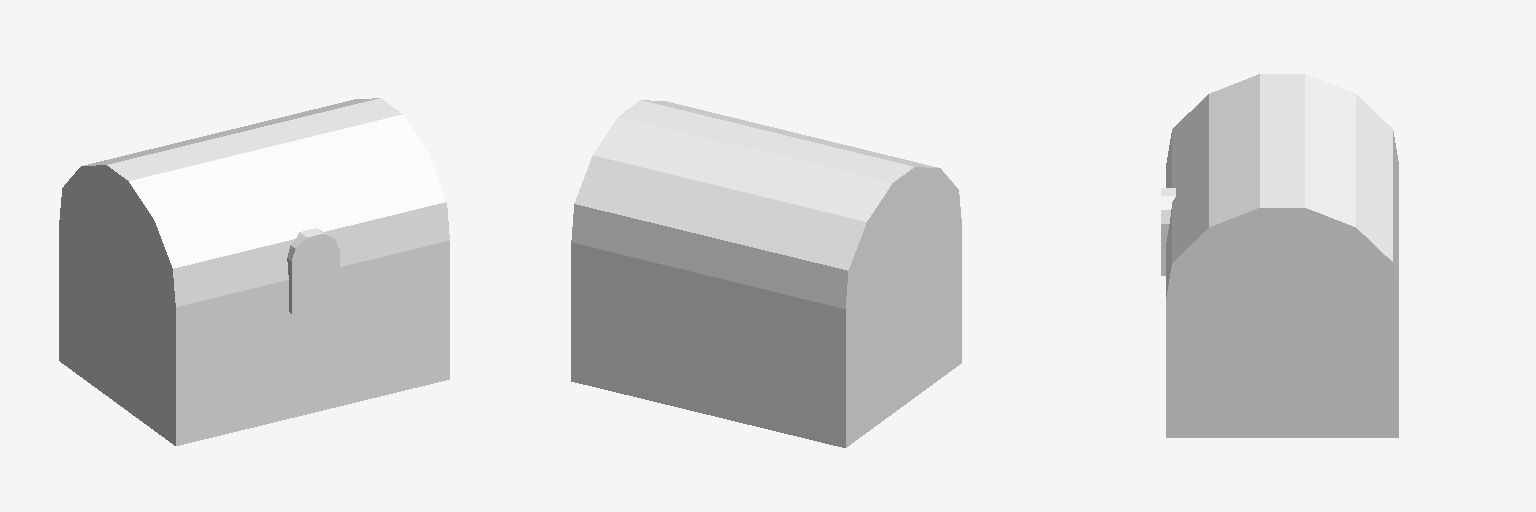
Rendered from Golden_Chest.obj.
The picture shows the model from 3 angles: view 1: azimuth 30°, elevation 25°; view 2: azimuth 150°, elevation 25°; view 3: azimuth 270°, elevation 25°; orthographic projection.
Visible parts, largest first — view 1: pasted__pasted__obj_Low_lid, pasted__pasted__obj_Low_box; view 2: pasted__pasted__obj_Low_box, pasted__pasted__obj_Low_lid; view 3: pasted__pasted__obj_Low_lid, pasted__pasted__obj_Low_box.
Part boxes in pixels (x1,y1,x2,y2): pasted__pasted__obj_Low_lid: (59, 98, 449, 313); pasted__pasted__obj_Low_box: (59, 222, 449, 445); pasted__pasted__obj_Low_box: (571, 224, 961, 447); pasted__pasted__obj_Low_lid: (571, 100, 961, 308); pasted__pasted__obj_Low_lid: (1161, 74, 1398, 298); pasted__pasted__obj_Low_box: (1166, 299, 1398, 437).
Bounding box in the file's own units: 3.93 × 3.16 × 2.96.